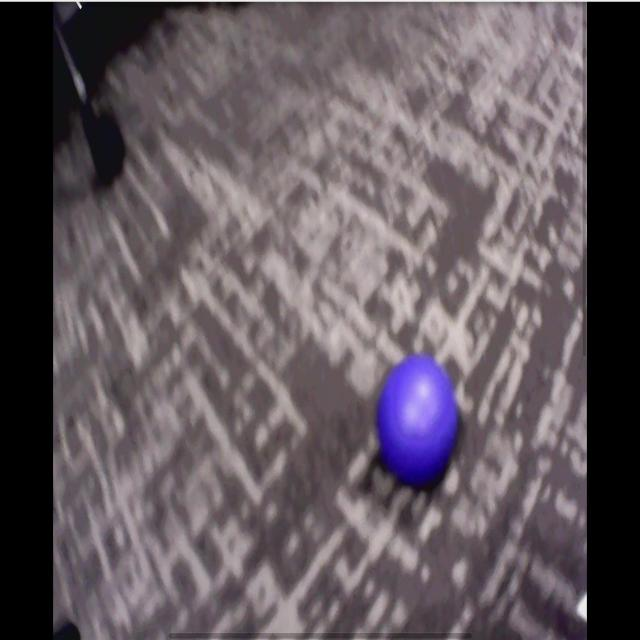ball: (379, 357, 457, 479)
